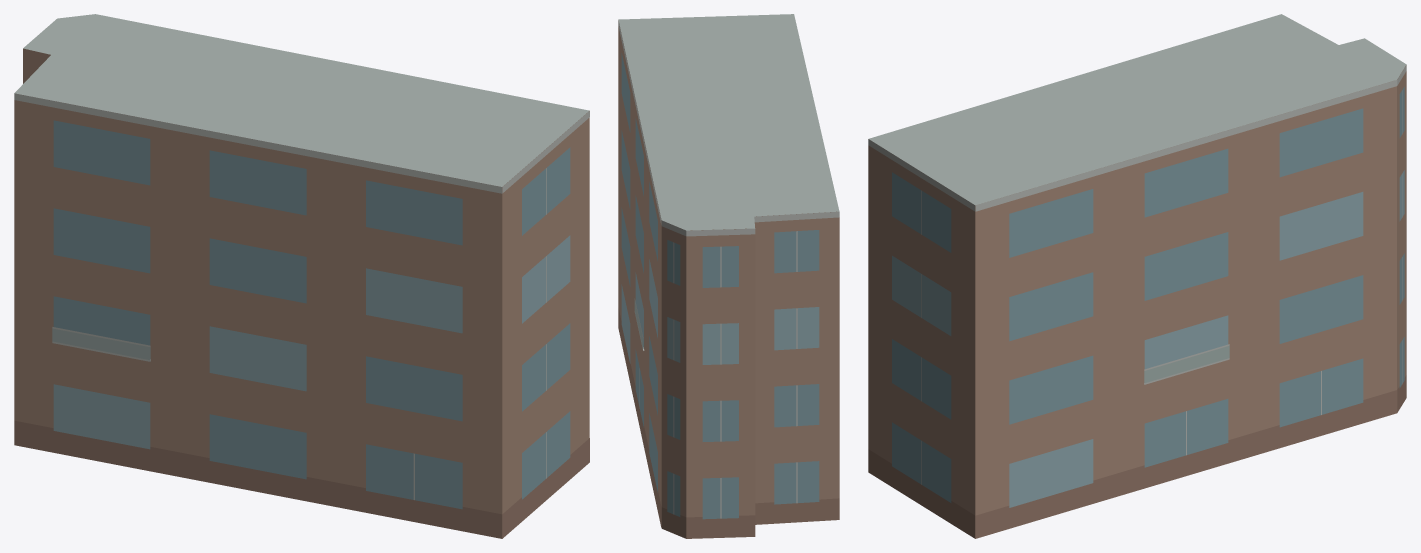
File: survey-upis-32781277.glb
The picture shows the model from 3 angles, left to right: view 1: azimuth 30°, elevation 25°; view 2: azimuth 150°, elevation 25°; view 3: azimuth 270°, elevation 25°; orthographic projection. The views are drawn at different scales.
Visible parts, largest first — view 1: survey-upis-32781277.tmp; view 2: survey-upis-32781277.tmp; view 3: survey-upis-32781277.tmp.
Part boxes in pixels (x1=…): survey-upis-32781277.tmp: x1=14, y1=14, x2=589, y2=538; survey-upis-32781277.tmp: x1=618, y1=14, x2=839, y2=538; survey-upis-32781277.tmp: x1=868, y1=14, x2=1406, y2=538.
Bounding box in the file's own units: 15.77 × 12.8 × 18.73.
